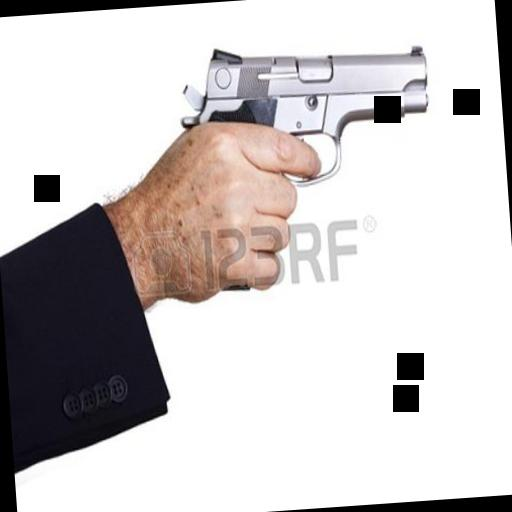Handgun: (162, 18, 446, 300)
